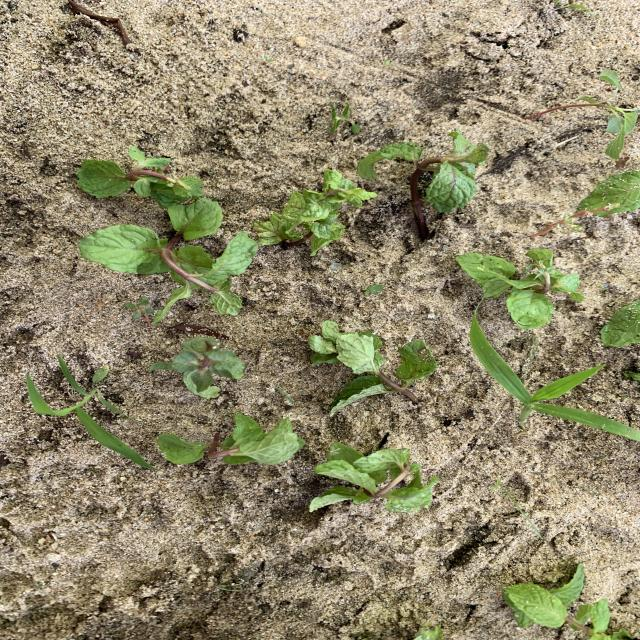crop: (79, 198, 258, 322), (310, 322, 435, 411), (358, 131, 488, 216), (457, 248, 583, 327), (262, 170, 374, 255), (310, 443, 437, 511), (76, 146, 204, 207), (157, 413, 305, 463), (527, 96, 639, 160), (149, 337, 245, 398), (504, 564, 583, 627), (567, 598, 632, 639), (602, 301, 639, 347)
weed: (470, 316, 640, 441), (26, 355, 156, 470), (530, 204, 611, 239), (331, 103, 359, 131), (125, 296, 155, 319), (414, 624, 443, 639), (600, 70, 622, 88), (568, 4, 597, 15), (279, 388, 293, 404), (365, 285, 384, 293)
